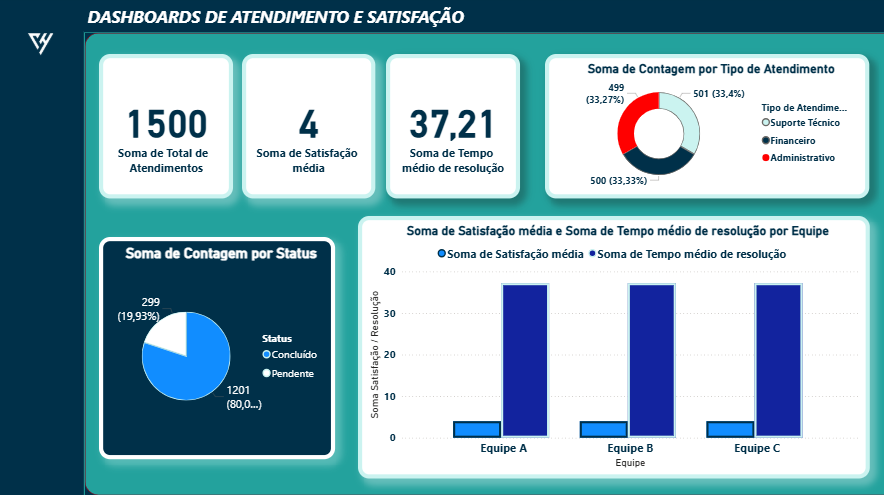

What the dashboard file says about the page in this screenshot:
{"tool":"powerbi","page":{"name":"Página 2","canvas":[1280,720],"ordinal":1},"visuals":[{"type":"shape","box":[124,52,1156.7,668.3],"z":0},{"type":"card","fields":{"Values":["Sum(Análise_de_Atendimento_por_Dia.Total de  Atendimentos)"]},"box":[145,83.3,193.3,208.3],"z":1000},{"type":"pieChart","fields":{"Category":["analise_Concluido_X_Pendentes.Status"],"Y":["Sum(analise_Concluido_X_Pendentes.Contagem)"]},"box":[145,346.7,340,320],"z":2000},{"type":"card","fields":{"Values":["Sum(Table_5.Satisfação média)"]},"box":[351.7,83.3,191.7,208.3],"z":3000},{"type":"card","fields":{"Values":["Sum(Table_4.Tempo médio de resolução)"]},"box":[558.3,83.3,193.3,208.3],"z":4000},{"type":"clusteredColumnChart","fields":{"Category":["Dados.Equipe"],"Y":["Sum(Table_5.Satisfação média)","Sum(Table_4.Tempo médio de resolução)"]},"box":[518.3,316.7,736.7,378.3],"z":5000},{"type":"donutChart","fields":{"Category":["Table_9.Tipo de Atendimento"],"Y":["Sum(Table_9.Contagem)"]},"box":[788.3,83.3,466.7,208.3],"z":6000},{"type":"textbox","box":[123.3,6.7,1156.7,45],"z":7000},{"type":"image","box":[0,0,123.3,138.3],"z":8000}]}

Visuals, with their boxes in screenshot pixels (x1, y1, x2, y2), scaled from the page's 1280x720 canvas onto the 884x495 screenshot:
shape: [86, 36, 883, 494]
card - Sum(Análise_de_Atendimento_por_Dia.Total de  Atendimentos): [100, 57, 234, 200]
pieChart - analise_Concluido_X_Pendentes.Status x Sum(analise_Concluido_X_Pendentes.Contagem): [100, 238, 335, 458]
card - Sum(Table_5.Satisfação média): [243, 57, 375, 200]
card - Sum(Table_4.Tempo médio de resolução): [386, 57, 519, 200]
clusteredColumnChart - Dados.Equipe x Sum(Table_5.Satisfação média): [358, 218, 867, 478]
donutChart - Table_9.Tipo de Atendimento x Sum(Table_9.Contagem): [544, 57, 867, 200]
textbox: [85, 5, 883, 36]
image: [0, 0, 85, 95]
